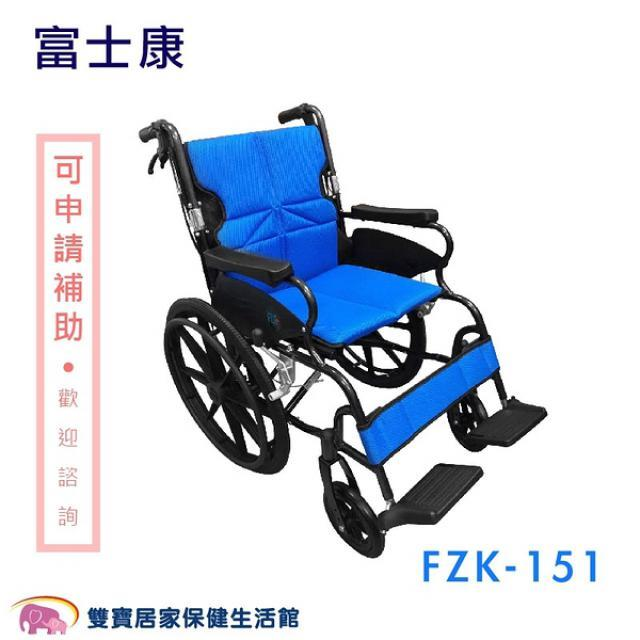wheelchair: (126, 106, 561, 546)
